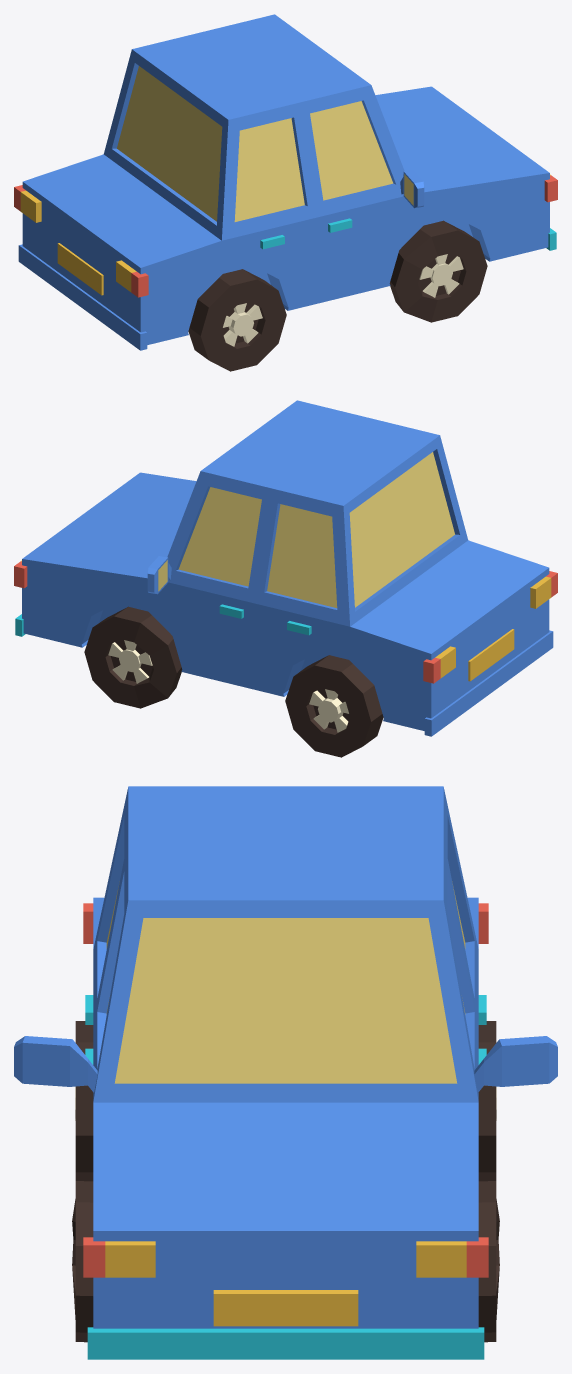
Rendered from CarModel_v2.fbx.
3 renders of one model, top to bottom at view 1: azimuth 30°, elevation 25°; view 2: azimuth 150°, elevation 25°; view 3: azimuth 270°, elevation 25°, orthographic. The views are drawn at different scales.
Parts seen in each view (by area): view 1: car; view 2: car; view 3: car.
Boxes of the visible parts, x1,y1,x2,y2 form: car: (14, 14, 557, 371); car: (14, 400, 557, 757); car: (14, 786, 557, 1359).
Bounding box in the file's own units: 410 × 221 × 282.
